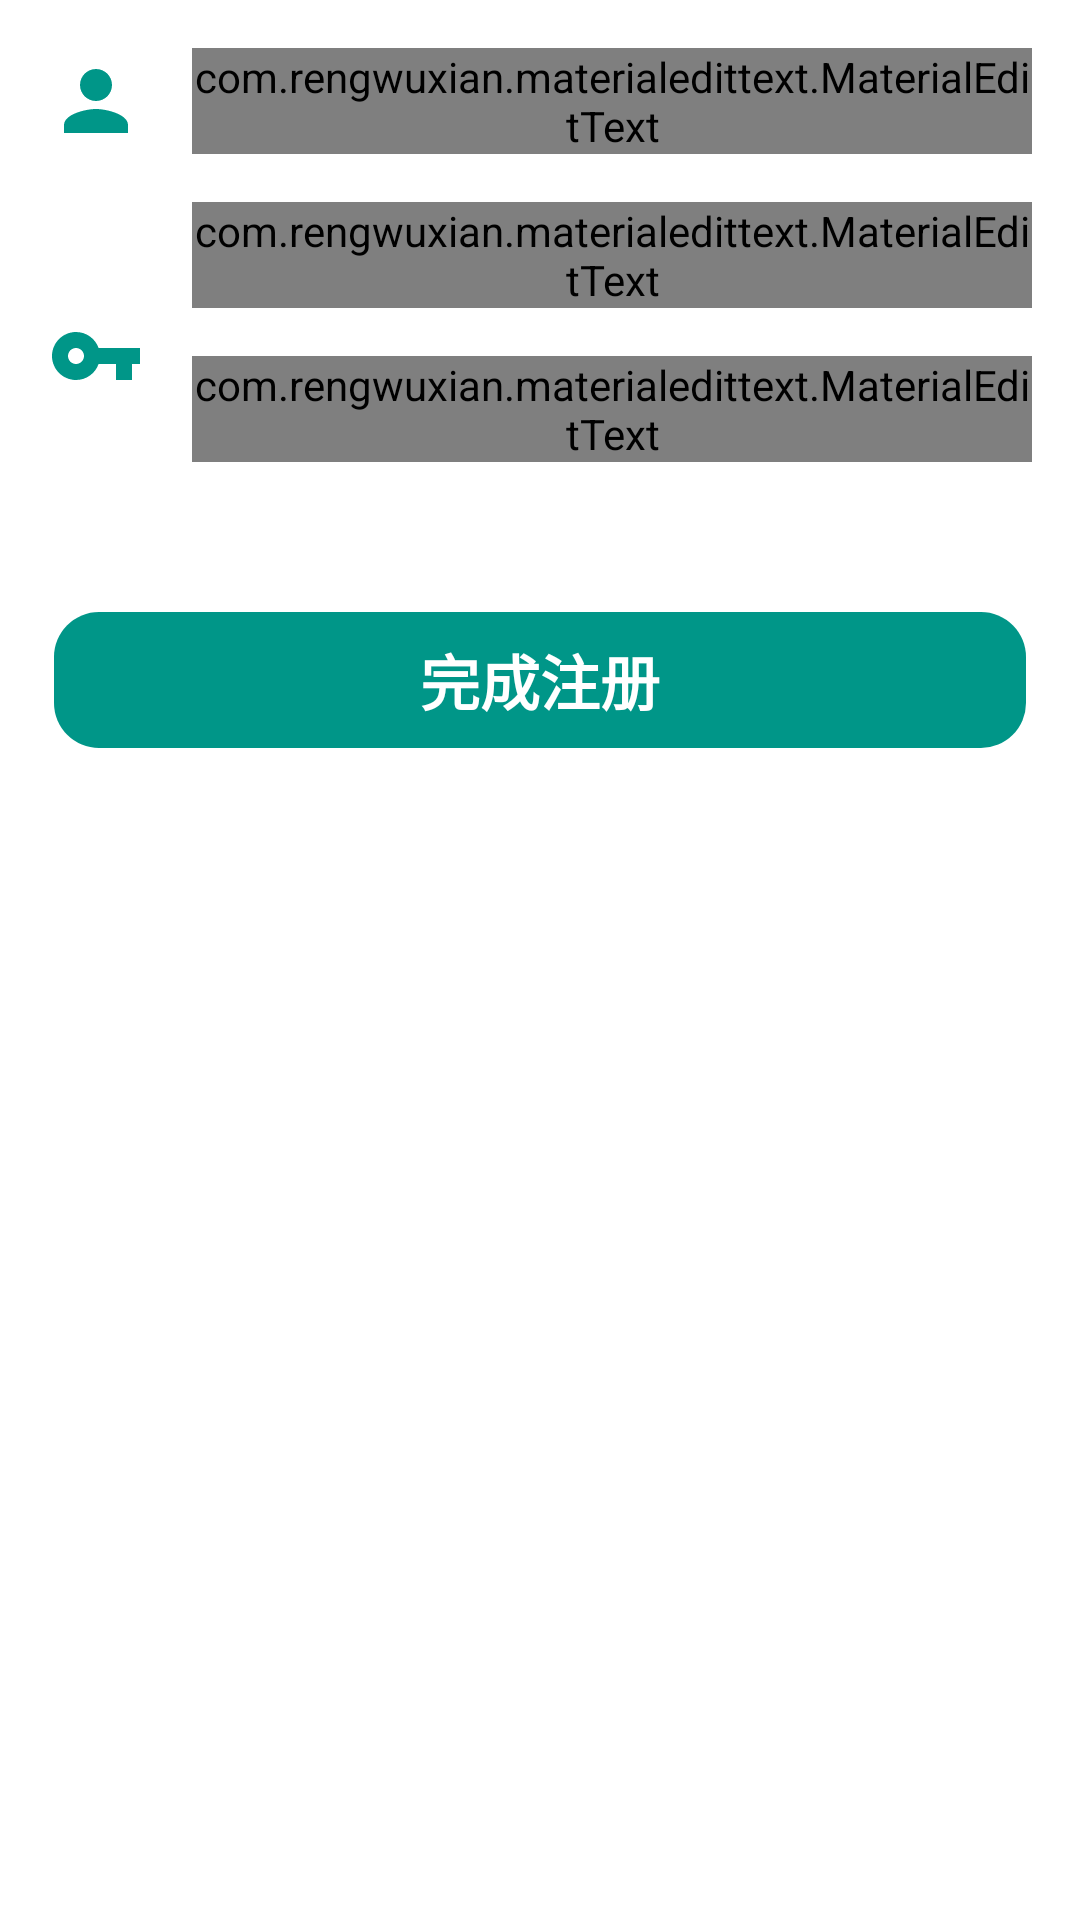

Point at icon controls on the screen. Image size 1080px×1920px, points as [x,y].
key: [96,356]
person: [96,101]
